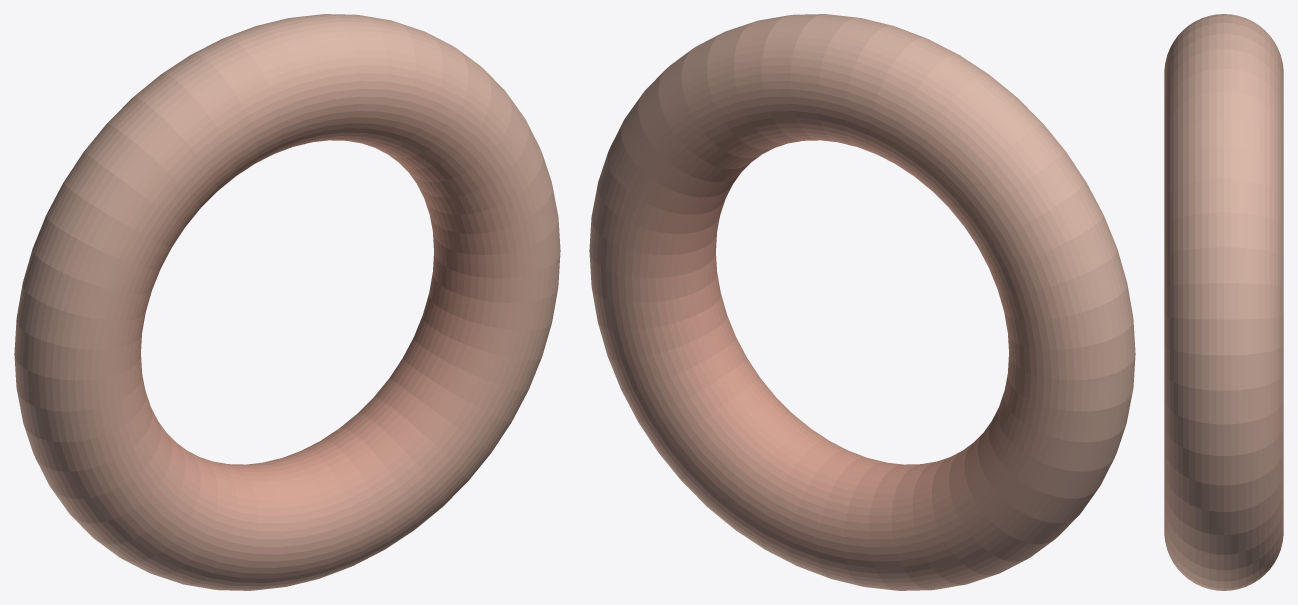
The picture shows the model from 3 angles, left to right: view 1: azimuth 30°, elevation 25°; view 2: azimuth 150°, elevation 25°; view 3: azimuth 270°, elevation 25°; orthographic projection. The views are drawn at different scales.
Visible parts, largest first — view 1: world; view 2: world; view 3: world.
Part boxes in pixels (box(x1,y1,x2,y2)): world: box(14, 14, 560, 590); world: box(589, 14, 1135, 590); world: box(1164, 14, 1283, 590).
Bounding box in the file's own units: 30.27 × 30.21 × 6.25.
